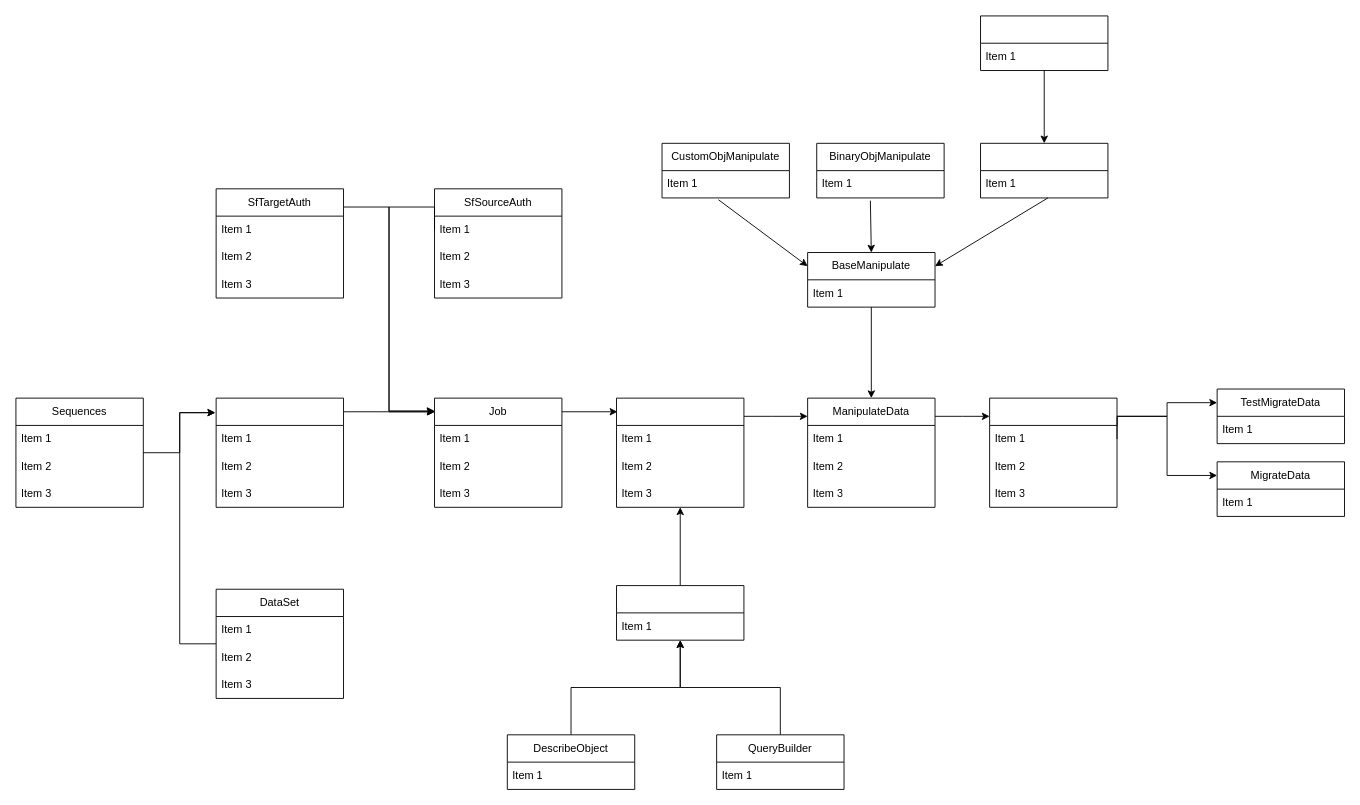
Image size: 1360x805. Some labels were removed from this diagram. The shapes that lost their labels are listed below. From the top down, each one's box as (x1, y1, x2, y2) in pixels, then its label:
(980, 15, 1108, 71): ContractsManipulate
(980, 142, 1108, 198): UniqueObjManipulate
(215, 397, 344, 507): JobDetail
(616, 397, 744, 507): RetrieveData
(989, 397, 1117, 507): MigrateFactory
(616, 585, 744, 640): BaseRetrieve
